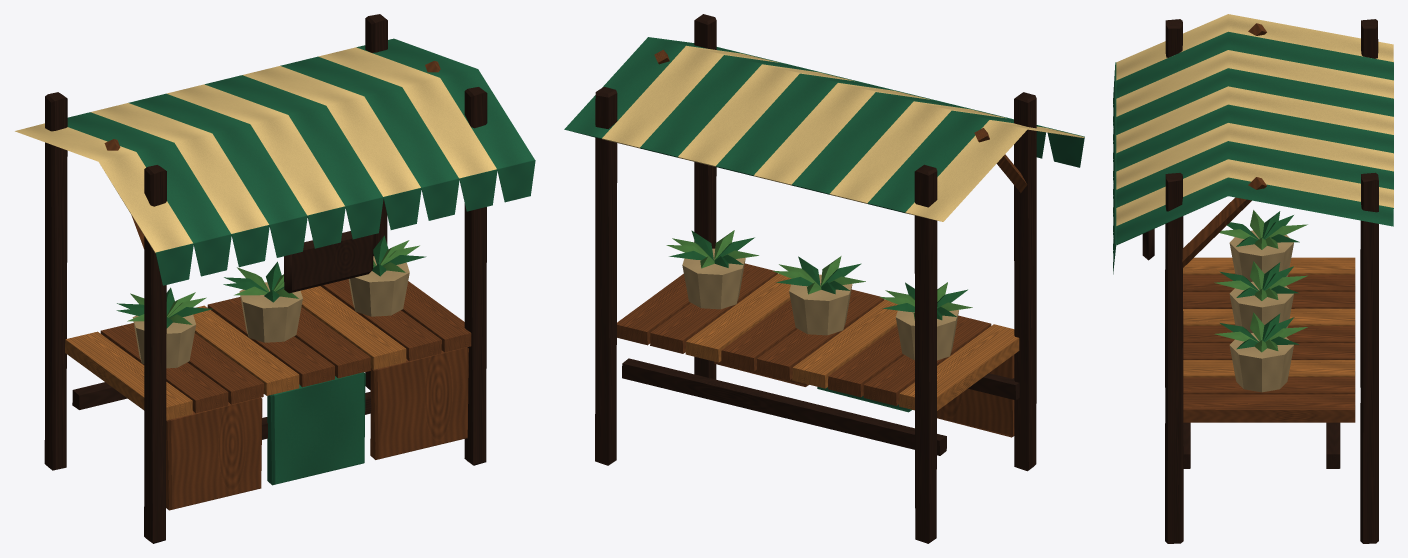
File: Banca_de_ervas_LOD1.fbx
The picture shows the model from 3 angles, left to right: view 1: azimuth 30°, elevation 25°; view 2: azimuth 150°, elevation 25°; view 3: azimuth 270°, elevation 25°; orthographic projection.
Visible parts, largest first — view 1: Banca_de_ervas_LOD1; view 2: Banca_de_ervas_LOD1; view 3: Banca_de_ervas_LOD1.
Boxes of the visible parts, box(x1,y1,x2,y2) form: Banca_de_ervas_LOD1: box(15, 14, 535, 543); Banca_de_ervas_LOD1: box(564, 14, 1084, 543); Banca_de_ervas_LOD1: box(1113, 14, 1393, 543).
Size of the model in its own units: 320 by 300 by 208.
Materials: 1 (1 with a texture image).
